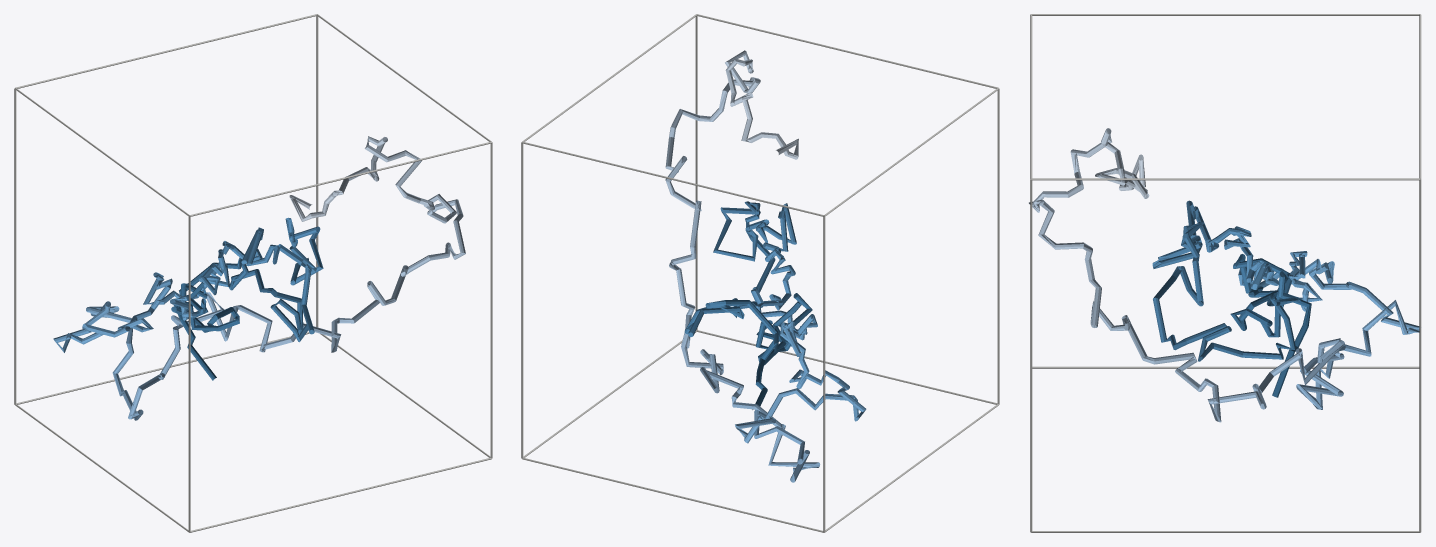
3 views of the same model, side by side, from view 1: azimuth 30°, elevation 25°; view 2: azimuth 150°, elevation 25°; view 3: azimuth 270°, elevation 25° (orthographic). The views are drawn at different scales.
Visible parts, largest first — view 1: geometry_0, geometry_1; view 2: geometry_0, geometry_1; view 3: geometry_0, geometry_1.
Part boxes in pixels (box(x1,y1,x2,y2)): geometry_0: box(53, 136, 465, 420); geometry_1: box(14, 14, 492, 532); geometry_0: box(665, 50, 866, 482); geometry_1: box(521, 14, 999, 532); geometry_0: box(1029, 128, 1419, 422); geometry_1: box(1030, 14, 1421, 532).
Bounding box in the file's own units: 0.3041 × 0.3037 × 0.3031.
